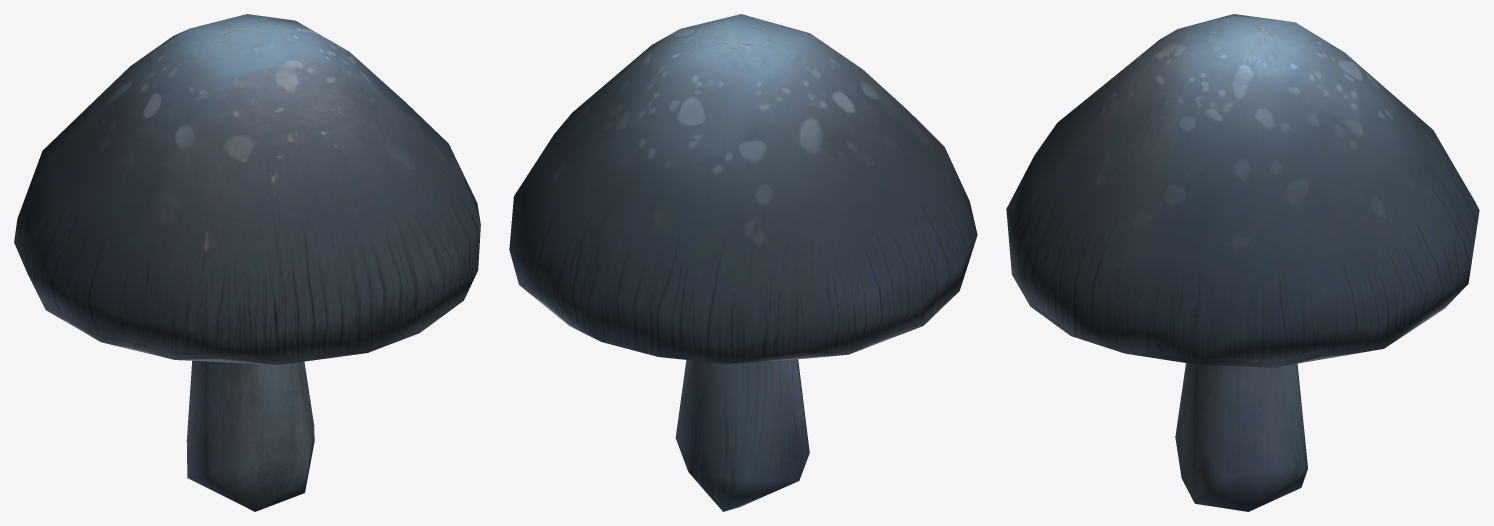
File: Mushroom_Blue_0727025220_texture.fbx
The picture shows the model from 3 angles, left to right: view 1: azimuth 30°, elevation 25°; view 2: azimuth 150°, elevation 25°; view 3: azimuth 270°, elevation 25°; orthographic projection.
Parts seen in each view (by area): view 1: Mesh1; view 2: Mesh1; view 3: Mesh1.
Part boxes in pixels (x1,y1,x2,y2): Mesh1: (14, 14, 480, 511); Mesh1: (509, 14, 977, 511); Mesh1: (1006, 14, 1479, 511).
Size of the model in its own units: 182 by 202 by 181.
Materials: 1 (1 with a texture image).
